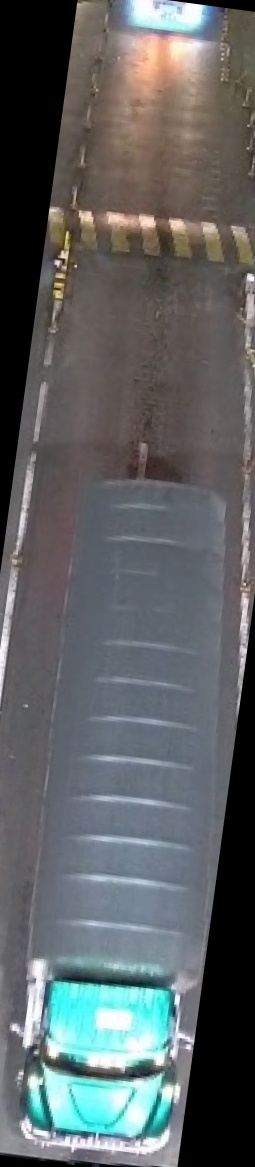truck: (0, 450, 255, 1167)
